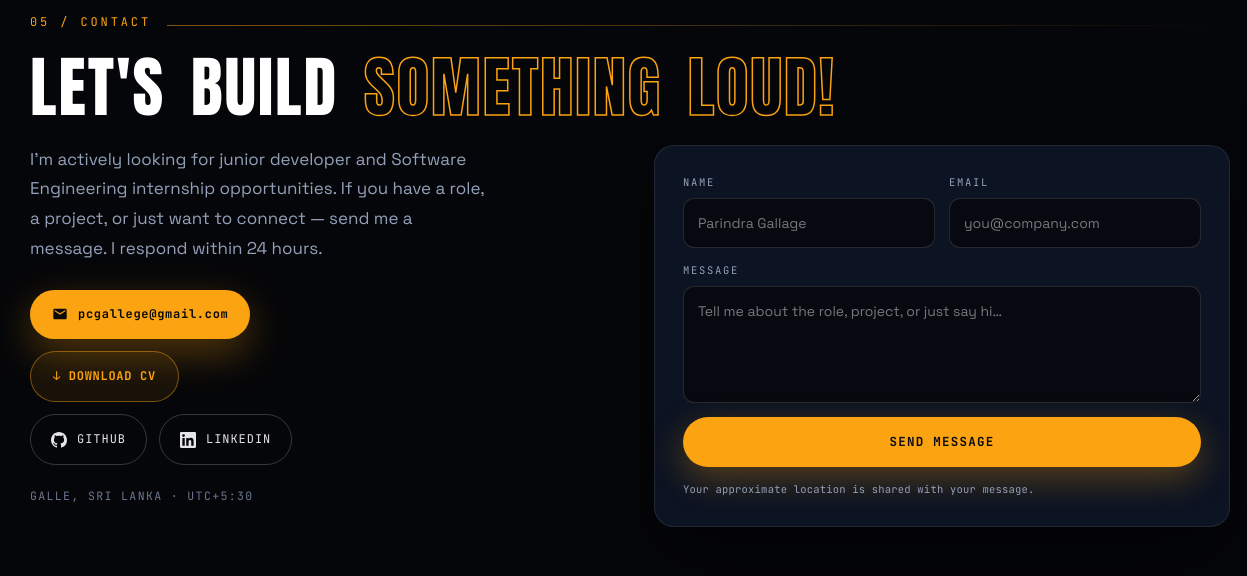
form submission (Step 9 #11, #12, #13) › does NOT clear the form when the request fails
Type "Ada" into the field labelled "NAME". click: (809, 223)
box: [683,198,935,248]
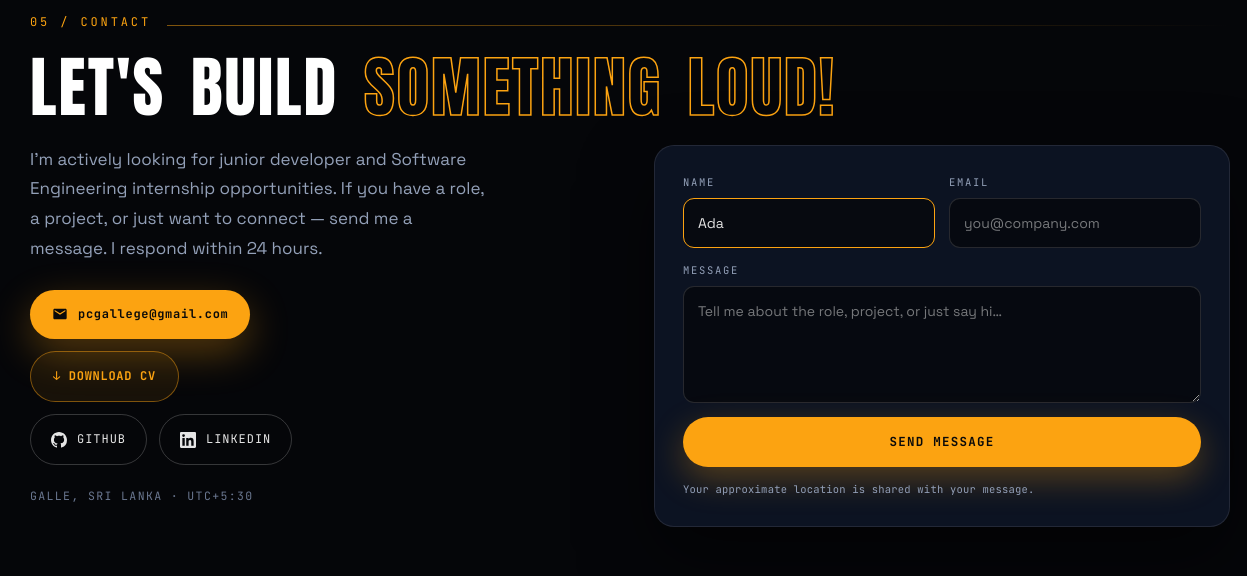
Type "ada@example.com" into the field labelled "EMAIL". click: (1075, 223)
box: [949,198,1201,248]
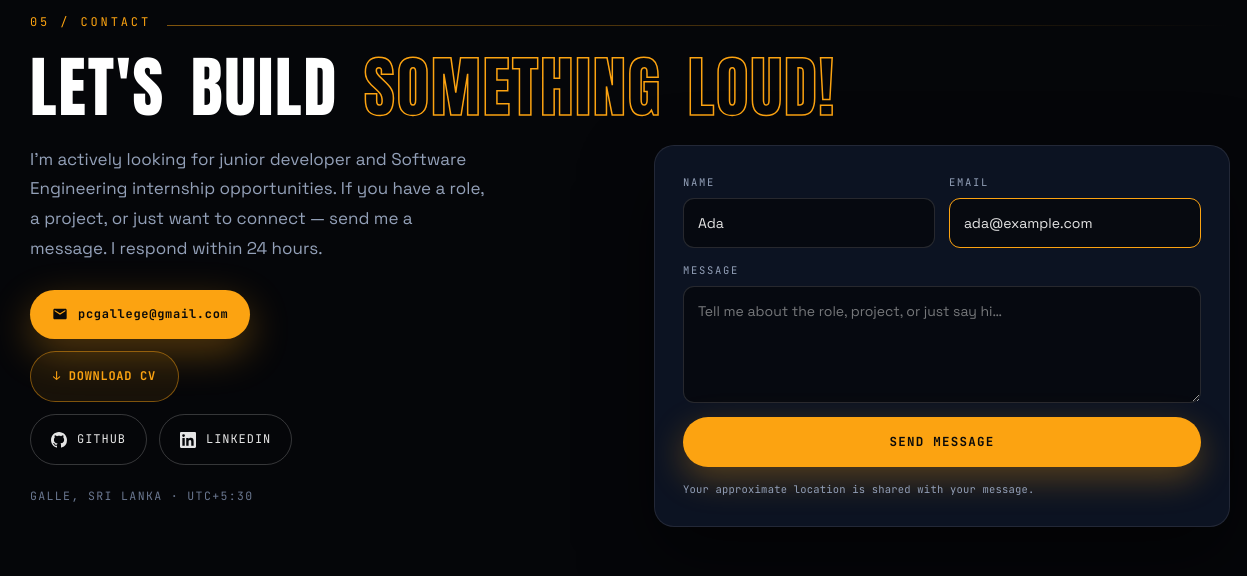
Type "Short" into the text box labelled "MESSAGE". click: (942, 344)
box: [683,286,1201,403]
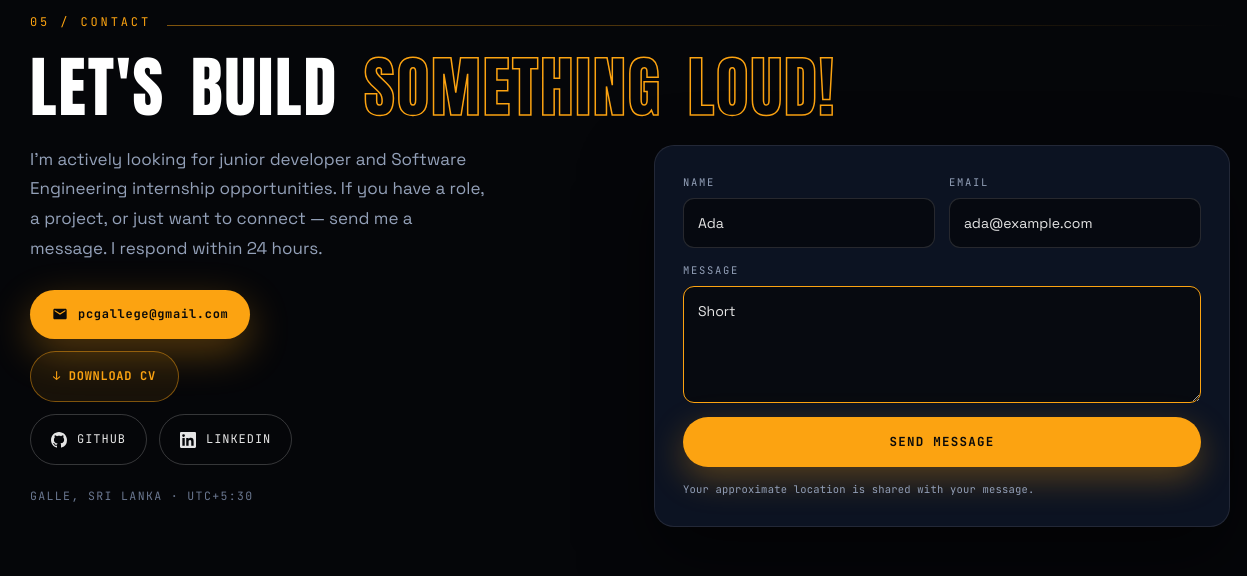
Click the button "SEND MESSAGE". click: (942, 442)
box: [683,417,1201,467]
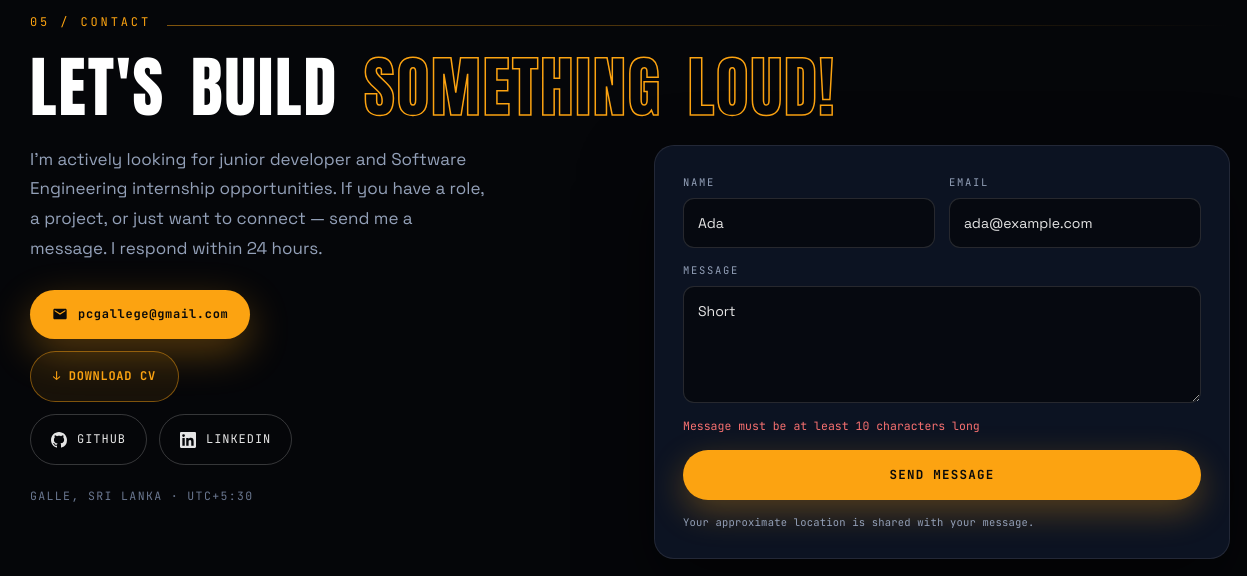
Result: the message reads "Message must be at least 10 characters long" at [683,418,980,433]
